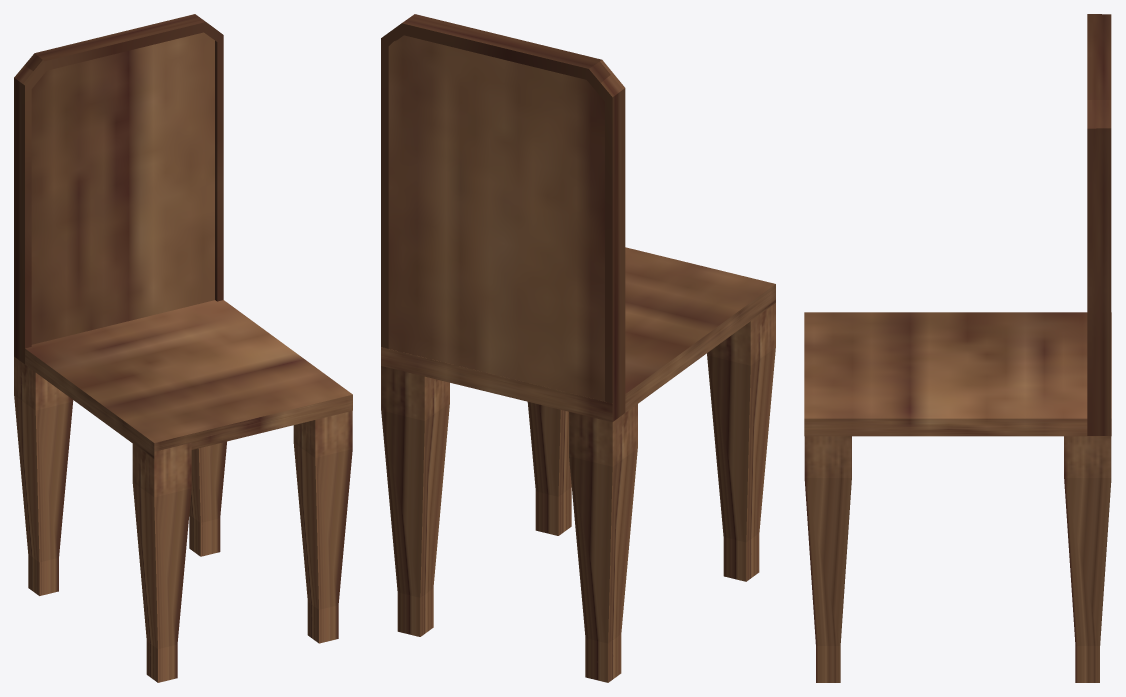
Rendered from Sandalye.fbx.
3 views of the same model, side by side, from view 1: azimuth 30°, elevation 25°; view 2: azimuth 150°, elevation 25°; view 3: azimuth 270°, elevation 25° (orthographic). The views are drawn at different scales.
Visible parts, largest first — view 1: Cube; view 2: Cube; view 3: Cube.
Part boxes in pixels (left/top/right/bottom): Cube: left=14, top=14, right=352, bottom=682; Cube: left=381, top=14, right=775, bottom=682; Cube: left=804, top=14, right=1111, bottom=682.
Bounding box in the file's own units: 45 × 114 × 55.
1 material, 1 textured.
